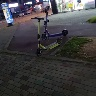beam: (39, 7, 71, 40)
gcooter: (29, 16, 64, 57)
